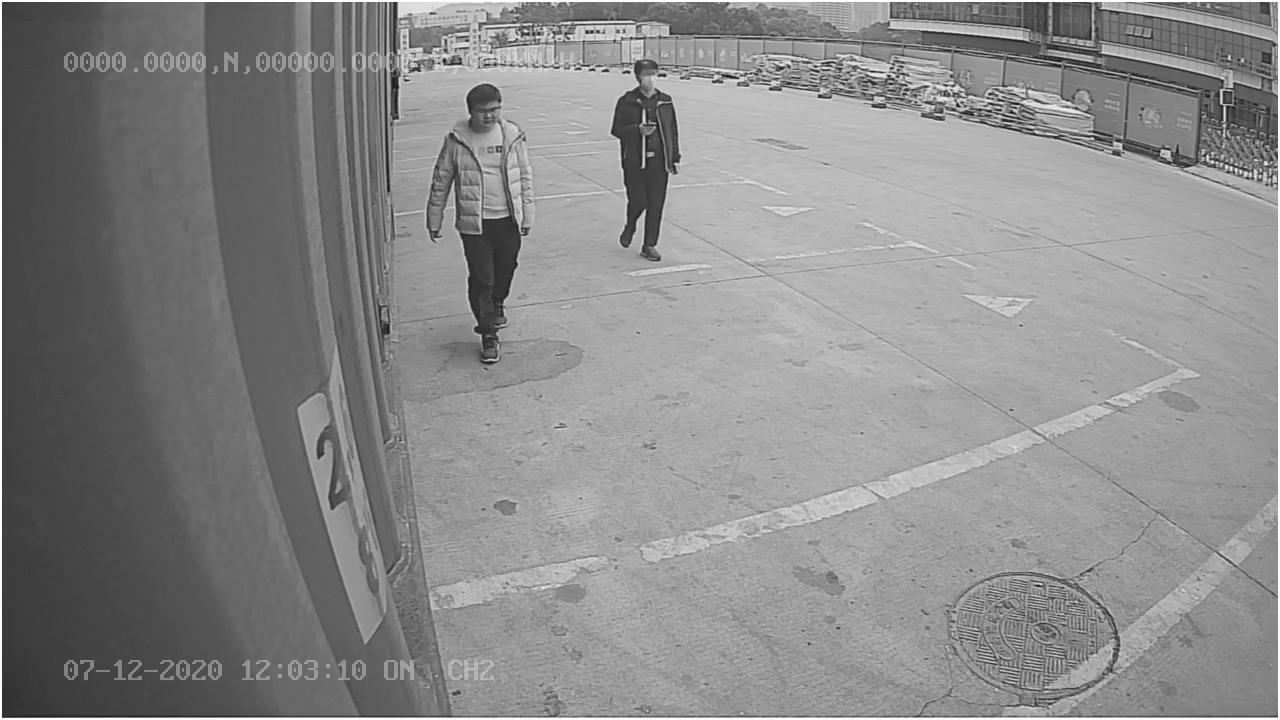person: (425, 79, 534, 369)
